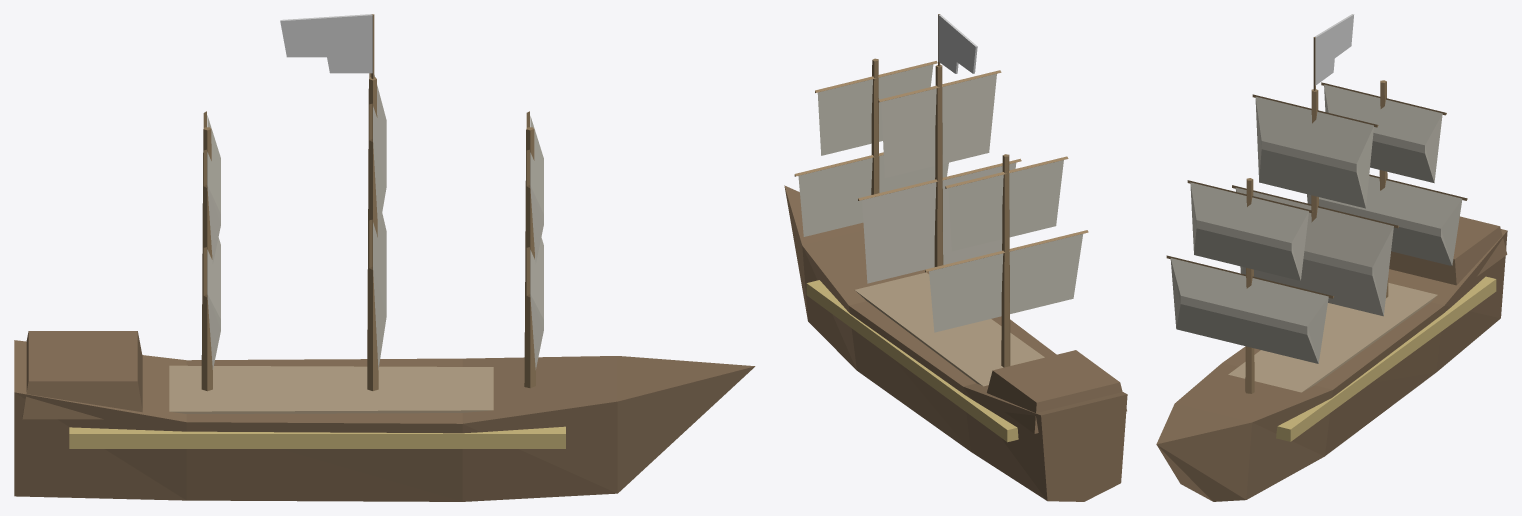
File: great-admiral.glb
3 views of the same model, side by side, from view 1: azimuth 30°, elevation 25°; view 2: azimuth 150°, elevation 25°; view 3: azimuth 270°, elevation 25° (orthographic). The views are drawn at different scales.
Parts seen in each view (by area): view 1: LOD0; view 2: LOD0; view 3: LOD0.
Part boxes in pixels (left/top/right/bottom): LOD0: left=14, top=14, right=755, bottom=501; LOD0: left=784, top=14, right=1127, bottom=501; LOD0: left=1156, top=14, right=1507, bottom=501.
Size of what is drawn, in the model's own units: 2.44 by 1.89 by 1.54.
